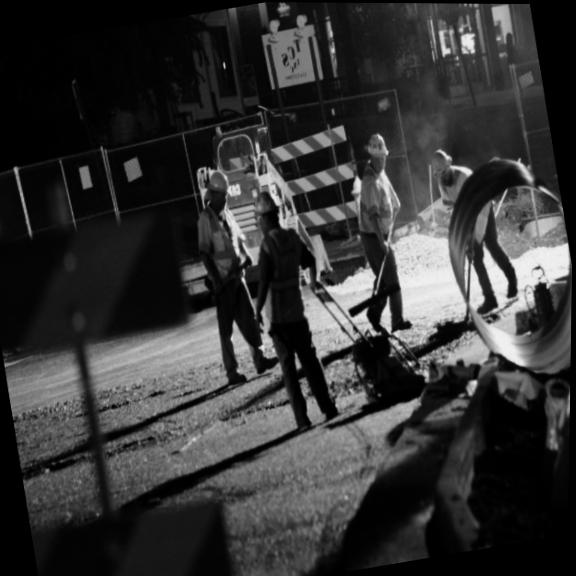safety_vest: (246, 219, 320, 336), (346, 171, 409, 256), (188, 206, 248, 286)
